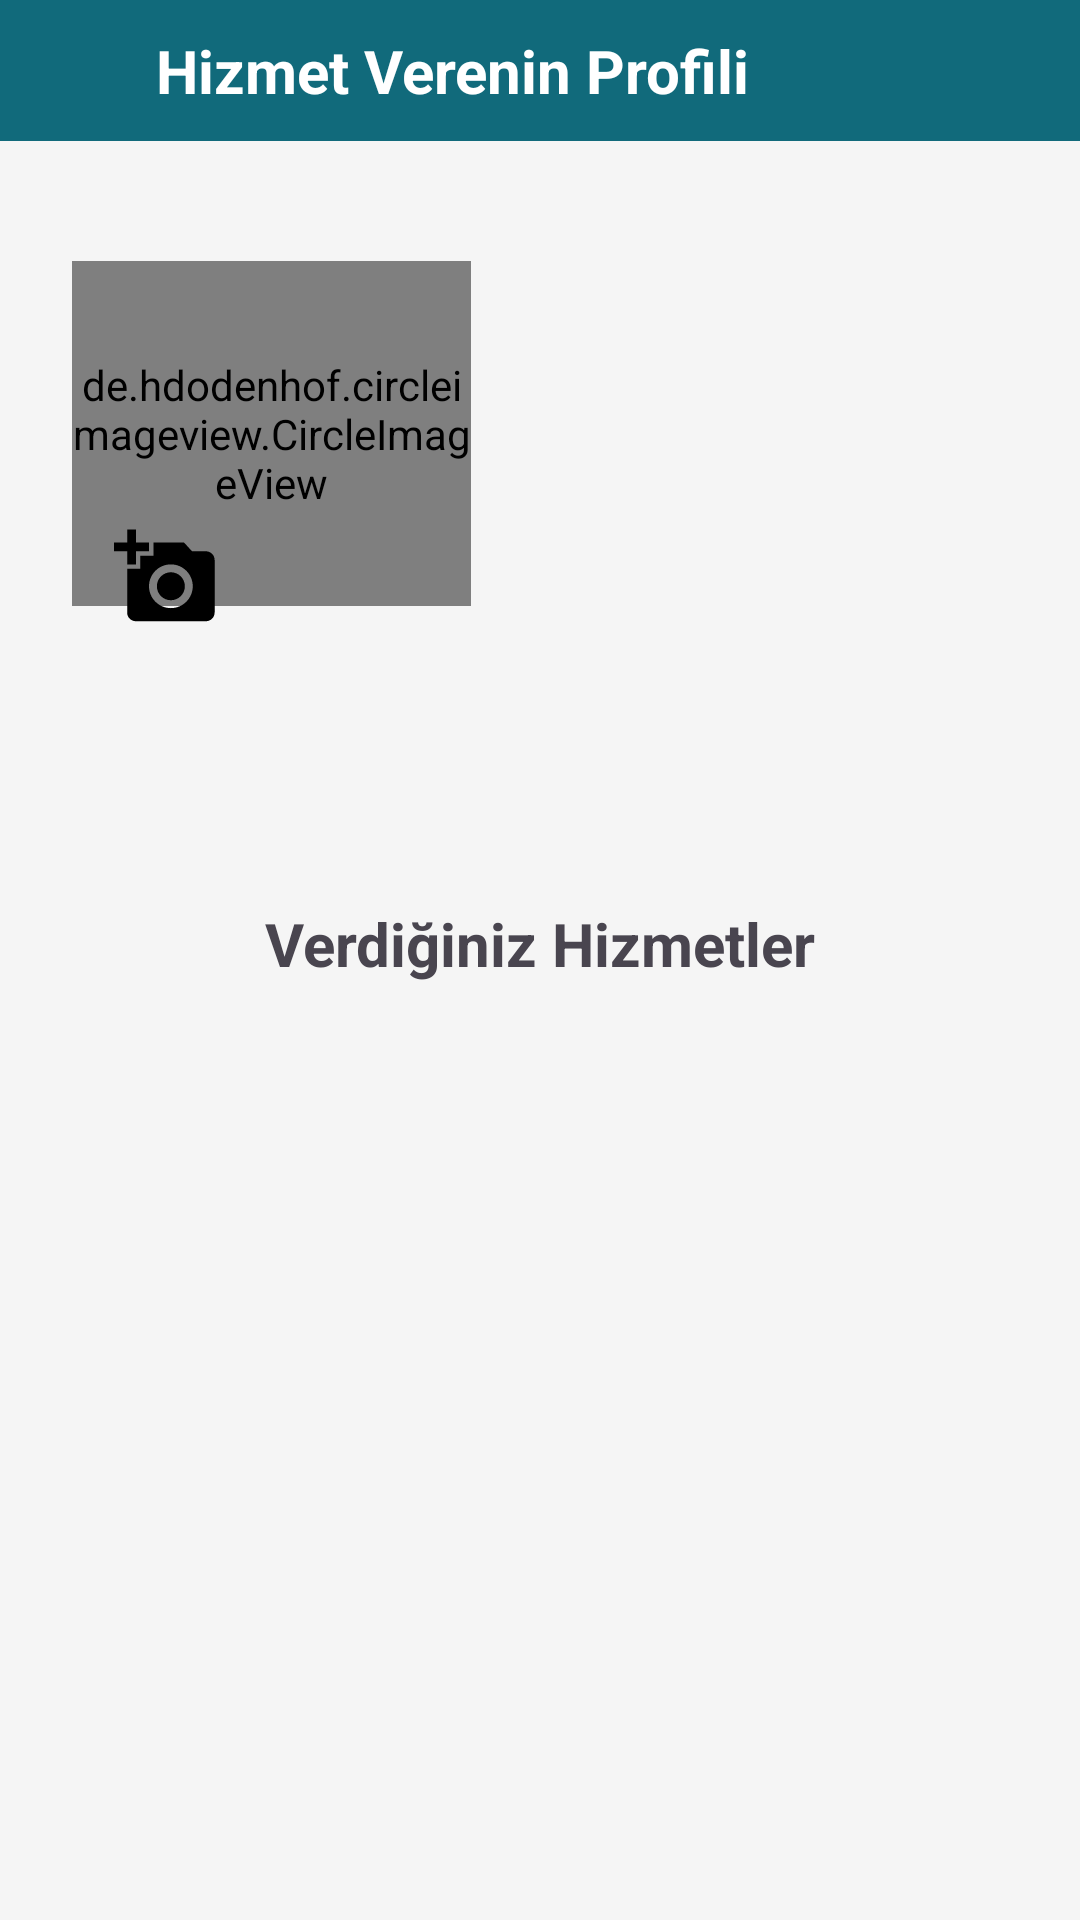

Icon click points for this 1080 × 1920 phone screenshot, format (x,y):
add photo: (166,579)
